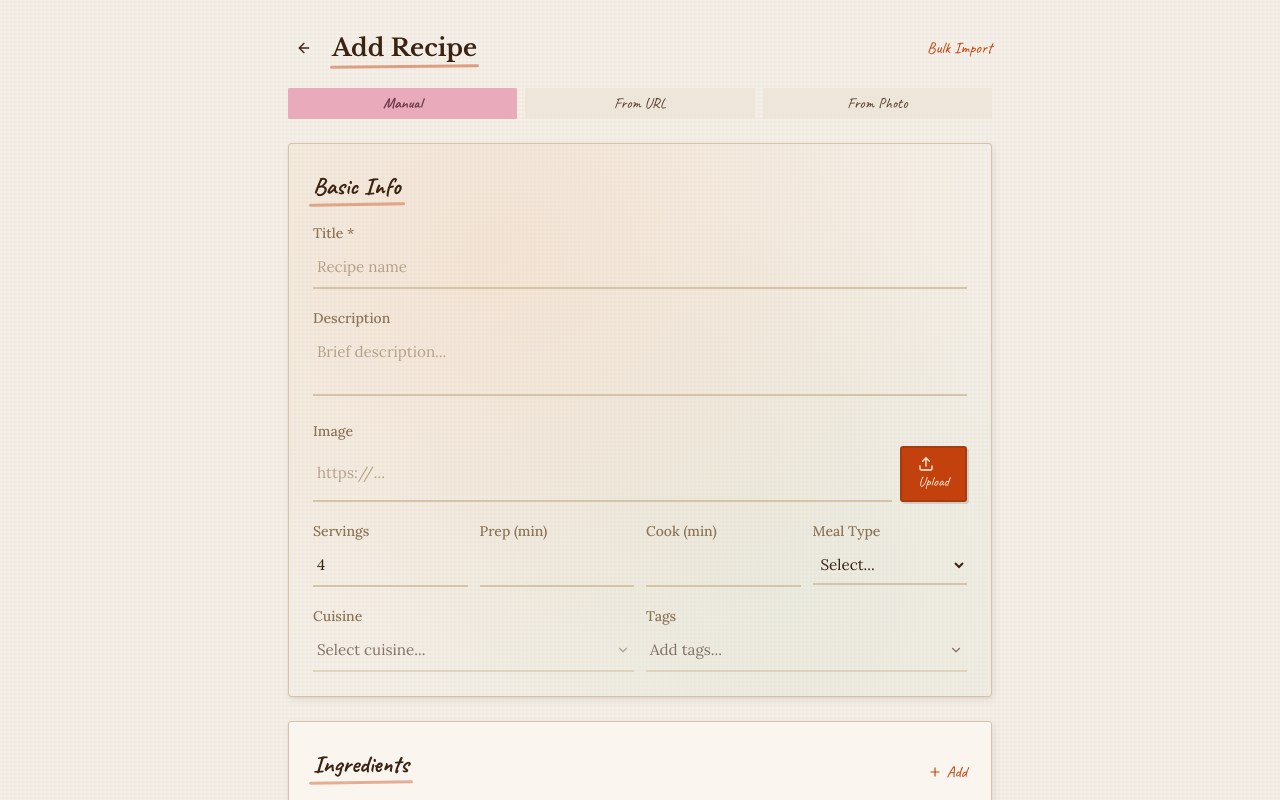
Test: Manual Recipe Entry › MR9: disables save button and shows spinner while saving
Type "Test" into the field with placeholder "Recipe name" at {"x": 640, "y": 268}, box [313,248,967,289]
(page scrolled)
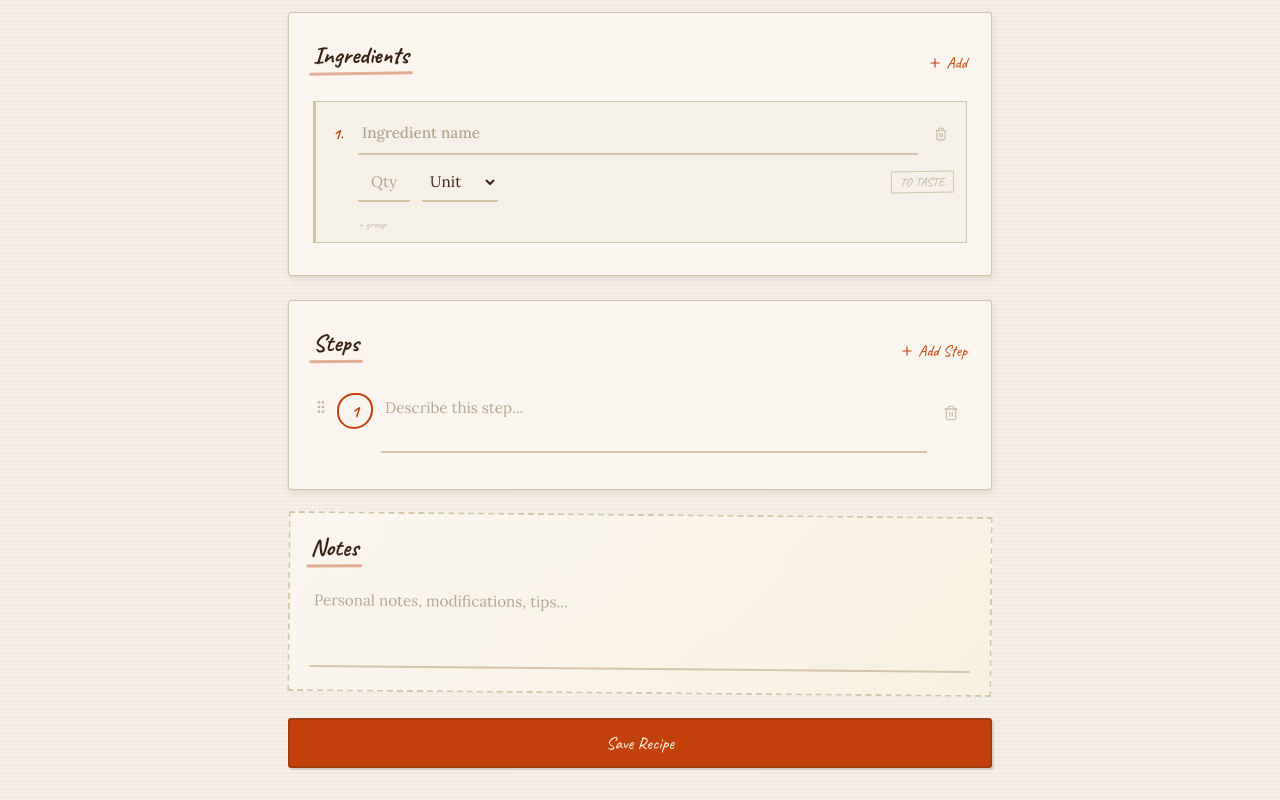
Click the button "Save Recipe" at {"x": 640, "y": 743}, box [288,718,992,768]
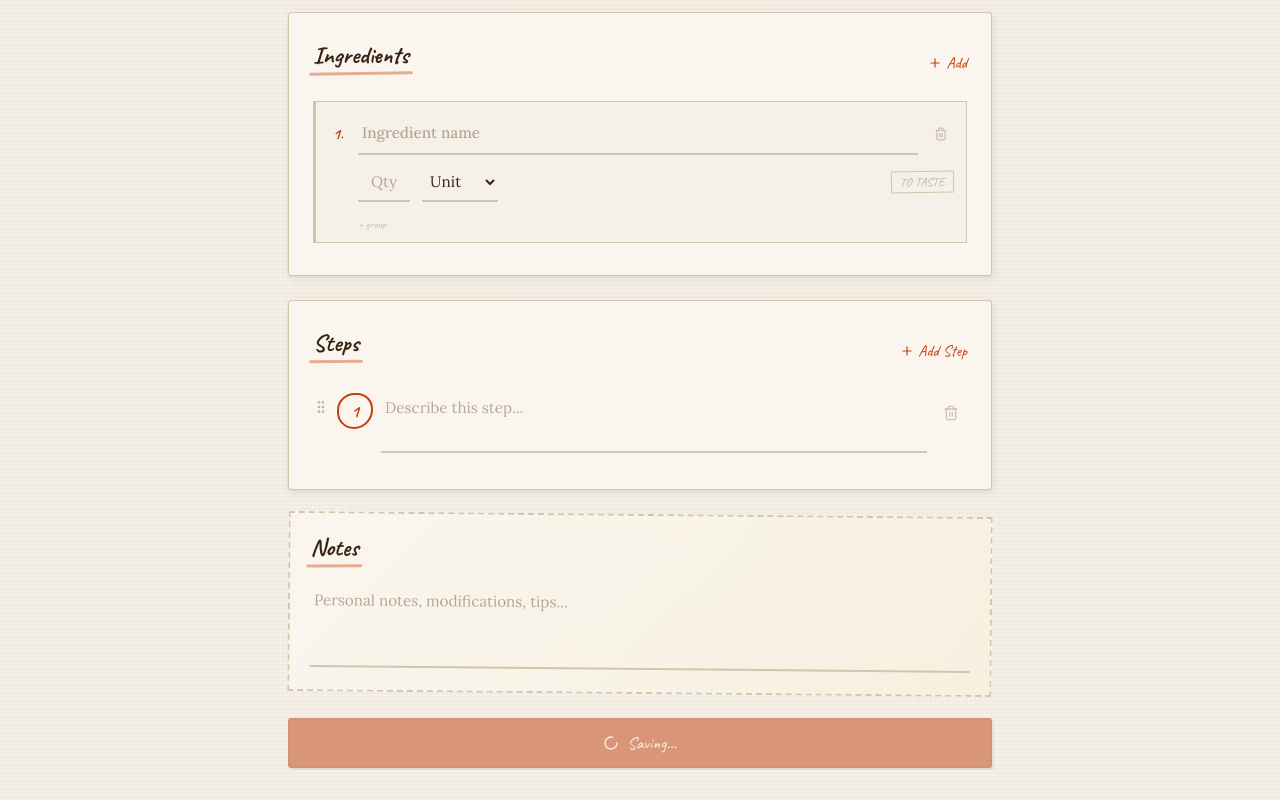
Expected: the button "Saving..." is disabled, [288,718,992,768]
